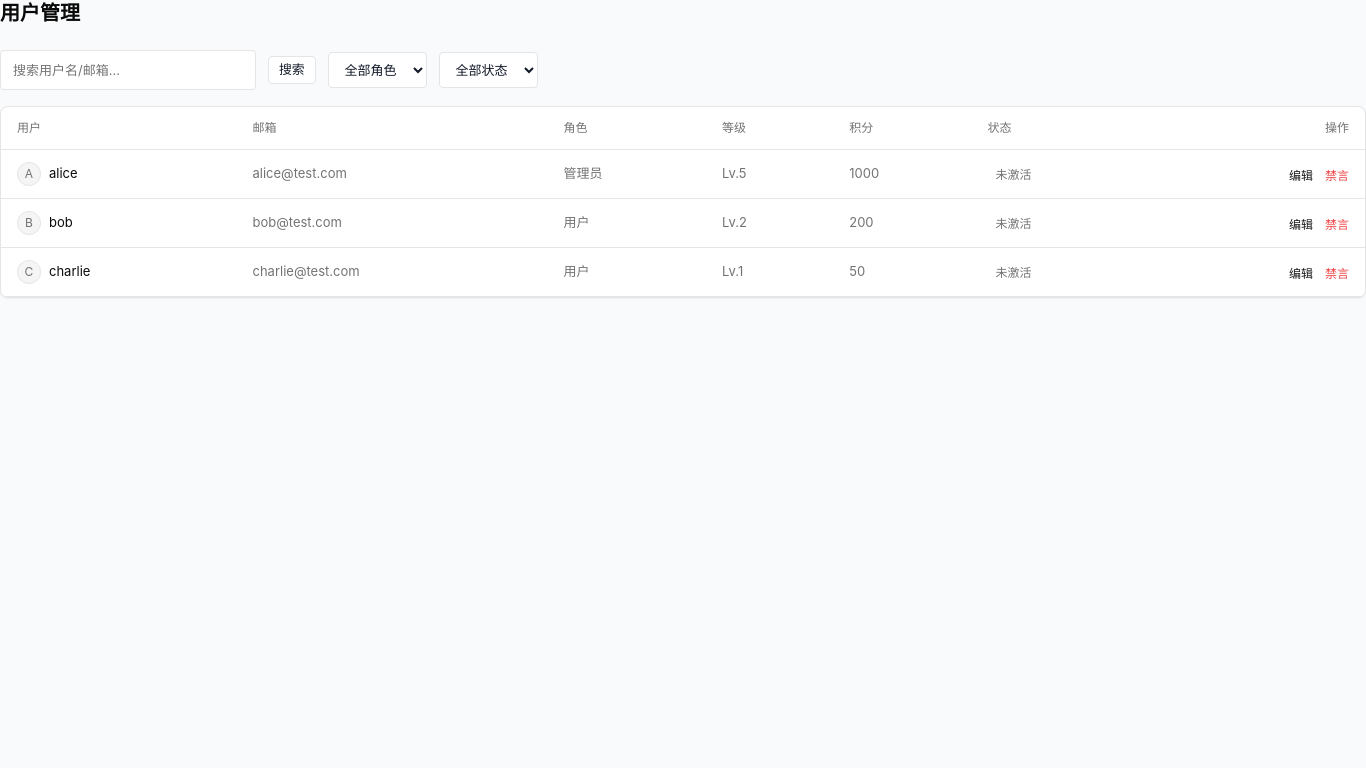
Test: UsersPage › opens edit modal on edit click
Check: the text "alice" is shown, box [49,164,78,184]
Click the button "编辑" in the row of "alice@test.com" at [1301, 176], box [1289,166,1313,184]
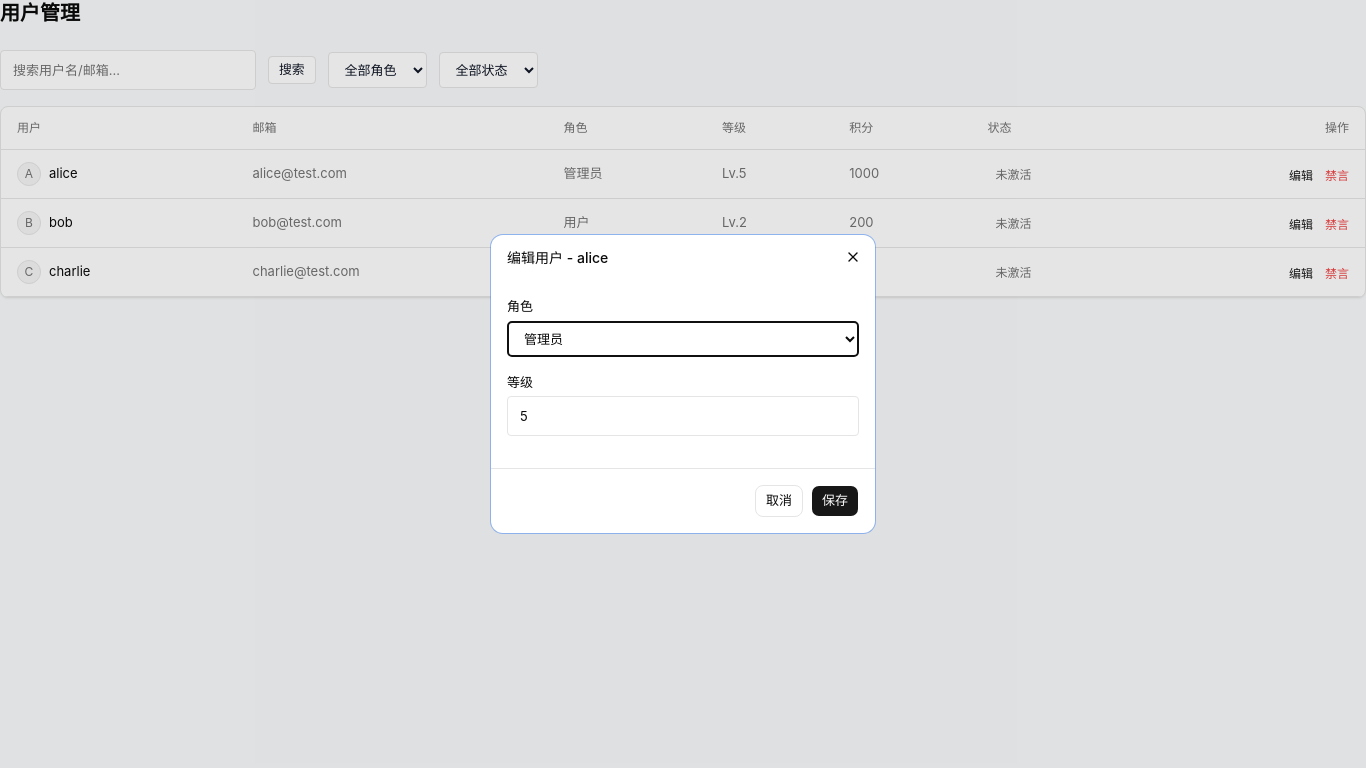
Check: the heading "编辑用户 - alice" is shown, box [507,249,608,266]
